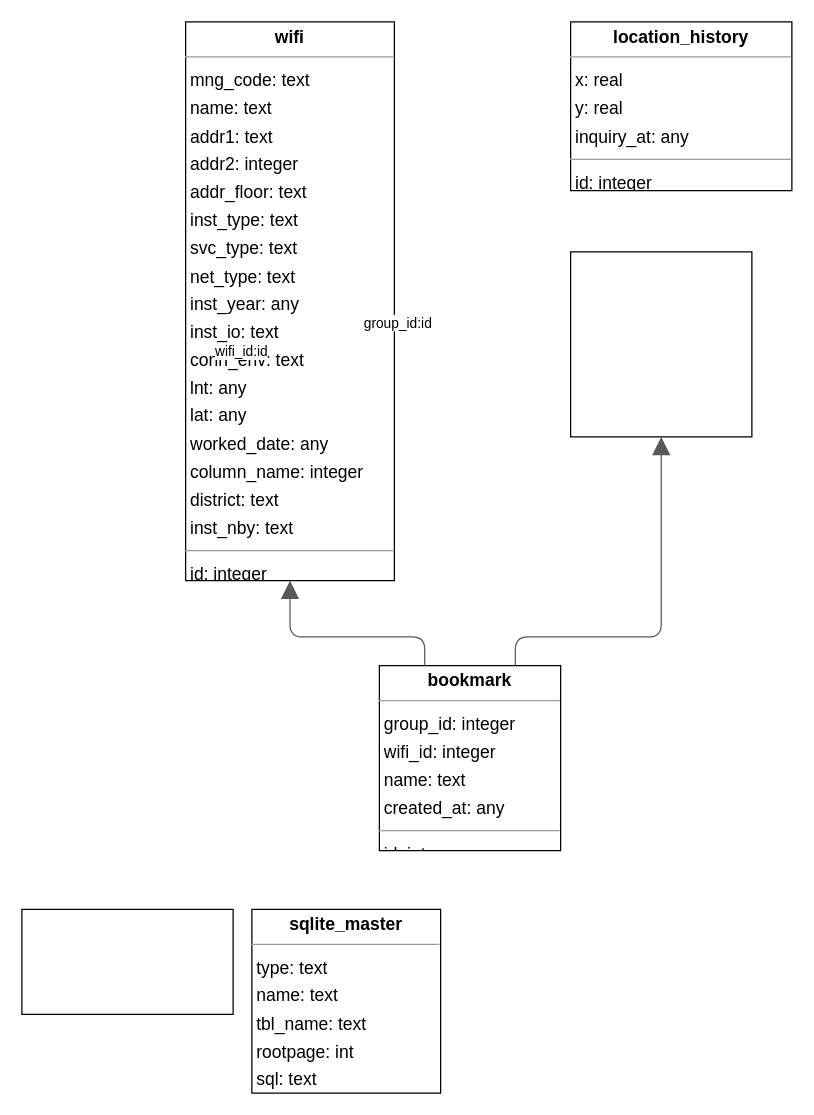
Some shapes in this 814 by 1115 pixel diagram are drawn without their labels. The shapes that lost their labels are listed below. From the top down, each one's box as (x1, y1, x2, y2) in pixels, then its label:
(569, 251, 752, 437): group name: text updated_at: any order_no: integer created_at: any id: integer
(21, 908, 233, 1014): sqlite_sequence name: unknown seq: unknown
